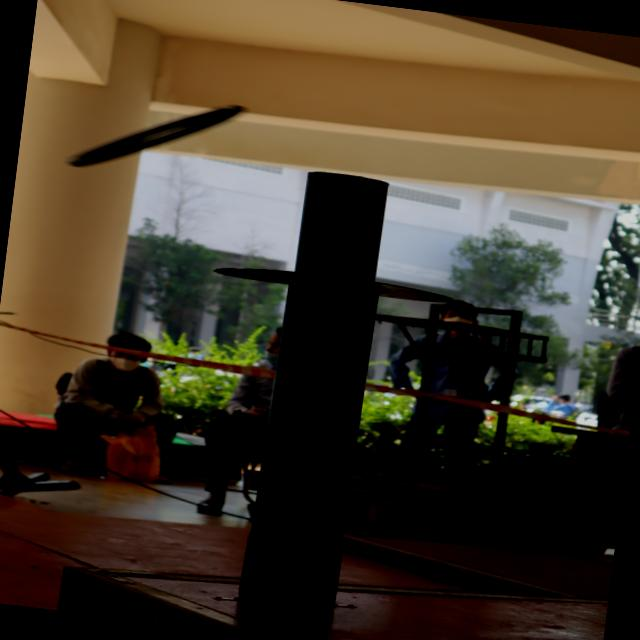pole: (190, 150, 486, 388)
